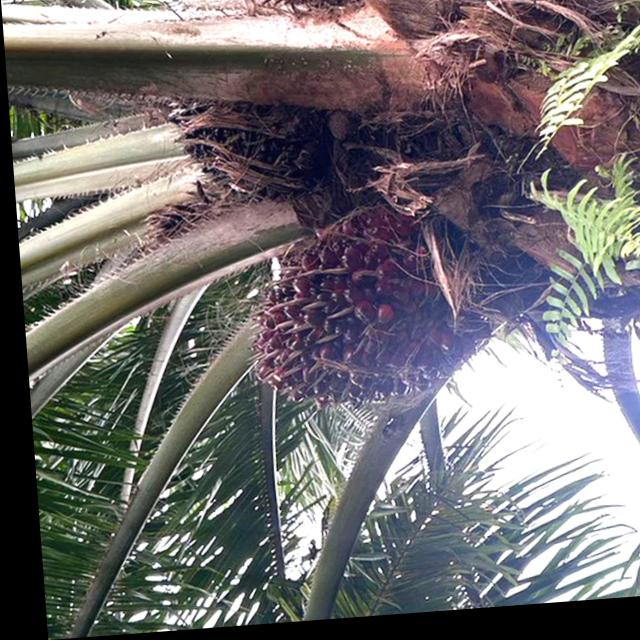ripe: (215, 187, 479, 437)
